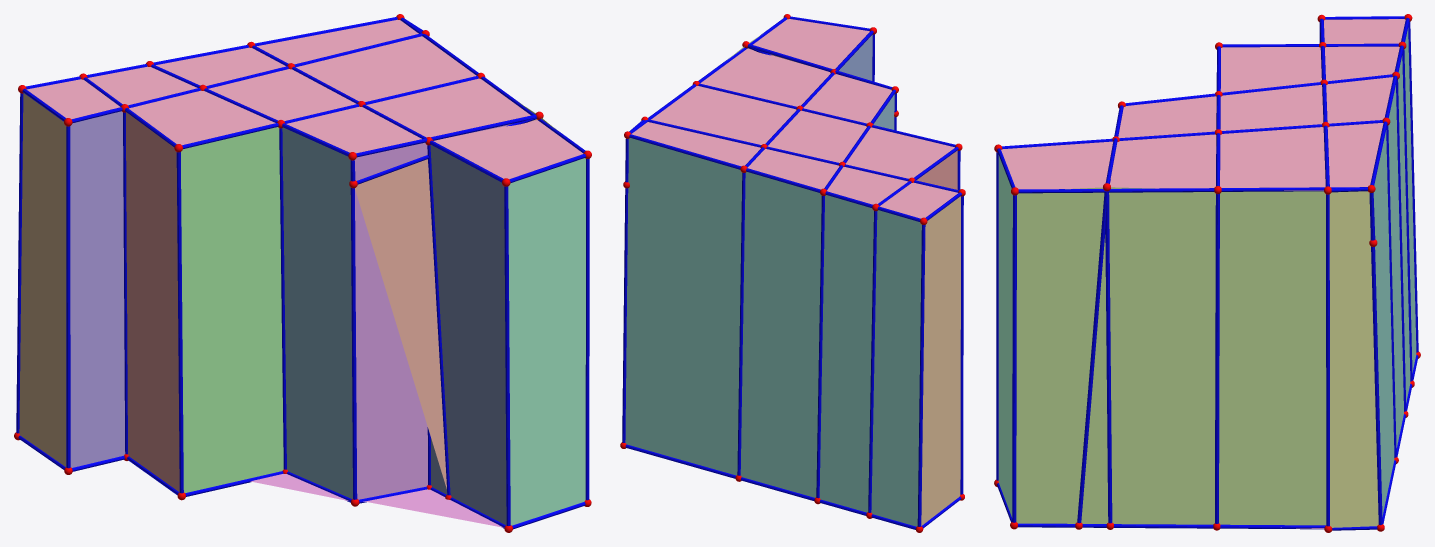
Rendered from pipeline_results_structured.obj.
The picture shows the model from 3 angles, left to right: view 1: azimuth 30°, elevation 25°; view 2: azimuth 150°, elevation 25°; view 3: azimuth 270°, elevation 25°; orthographic projection. The views are drawn at different scales.
Visible parts, largest first — view 1: face_00008, face_00007, face_00012, face_00009, face_00001, face_00006, face_00000, face_00005, face_00011, face_00013, face_00003, line_00034 (+15 smaller); view 2: face_00004, face_00008, face_00005, line_00031, line_00032, line_00006, line_00033, line_00001, line_00022, line_00034, line_00036, line_00014 (+8 smaller); view 3: face_00002, face_00008, face_00010, face_00004, face_00012, line_00020, line_00016, line_00019, line_00021, line_00014, line_00017, line_00015 (+12 smaller).
Boxes of the visible parts, x1,y1,x2,y2 form: face_00008: [26, 19, 583, 179]; face_00007: [181, 127, 283, 492]; face_00012: [508, 158, 585, 525]; face_00009: [282, 127, 352, 498]; face_00001: [430, 145, 506, 524]; face_00006: [70, 111, 125, 467]; face_00000: [126, 112, 179, 491]; face_00005: [19, 93, 66, 466]; face_00011: [354, 124, 510, 499]; face_00013: [355, 119, 537, 488]; face_00003: [250, 474, 503, 527]; line_00034: [66, 126, 70, 468]; face_00004: [625, 138, 921, 526]; face_00008: [631, 19, 957, 218]; face_00005: [921, 196, 960, 525]; line_00031: [917, 225, 925, 526]; line_00032: [629, 134, 920, 221]; line_00006: [737, 172, 745, 475]; line_00033: [816, 196, 824, 498]; line_00001: [868, 211, 877, 512]; line_00022: [625, 444, 916, 529]; line_00034: [960, 196, 963, 494]; line_00036: [647, 119, 958, 192]; line_00014: [622, 188, 628, 442]; face_00002: [1016, 187, 1326, 525]; face_00008: [1001, 19, 1405, 190]; face_00010: [1329, 191, 1378, 527]; face_00004: [1373, 28, 1416, 516]; face_00012: [998, 155, 1012, 517]; line_00020: [1012, 195, 1016, 522]; line_00016: [1215, 194, 1219, 523]; line_00019: [1105, 191, 1112, 523]; line_00021: [1077, 191, 1106, 523]; line_00014: [1369, 193, 1382, 525]; line_00017: [1018, 187, 1367, 193]; line_00015: [1326, 194, 1329, 526].
Size of the model in its own units: 0.99 by 0.9292 by 1.03.
